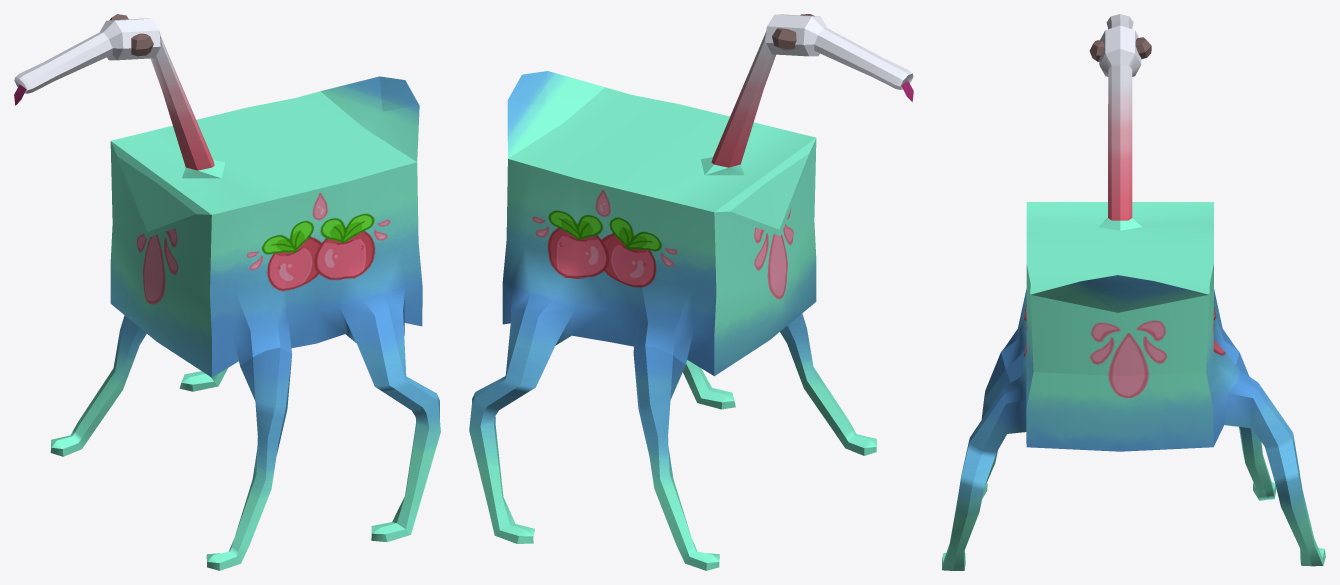
File: Enemy_dursti_Pfirsich.fbx
3 views of the same model, side by side, from view 1: azimuth 30°, elevation 25°; view 2: azimuth 150°, elevation 25°; view 3: azimuth 270°, elevation 25° (orthographic). The views are drawn at different scales.
Visible parts, largest first — view 1: Dursti_Boi; view 2: Dursti_Boi; view 3: Dursti_Boi.
Part boxes in pixels (x1,y1,x2,y2): Dursti_Boi: (14, 14, 440, 570); Dursti_Boi: (469, 14, 913, 570); Dursti_Boi: (942, 14, 1325, 570).
Bounding box in the file's own units: 2.5 × 3.04 × 2.31.
